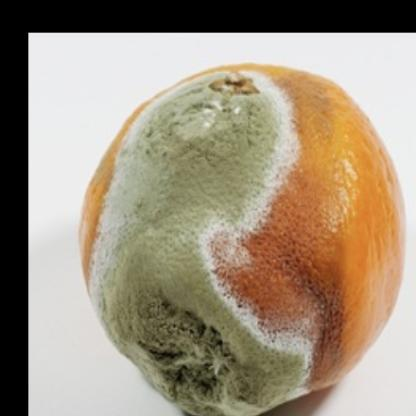rotten: (81, 61, 406, 416)
